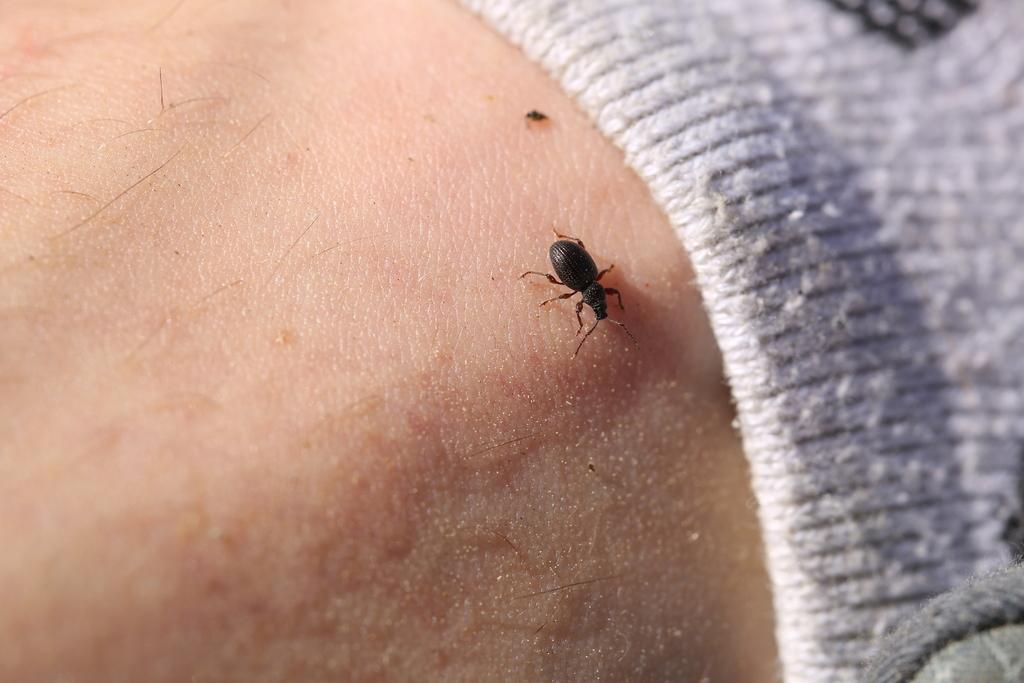weevils: (495, 205, 661, 372)
